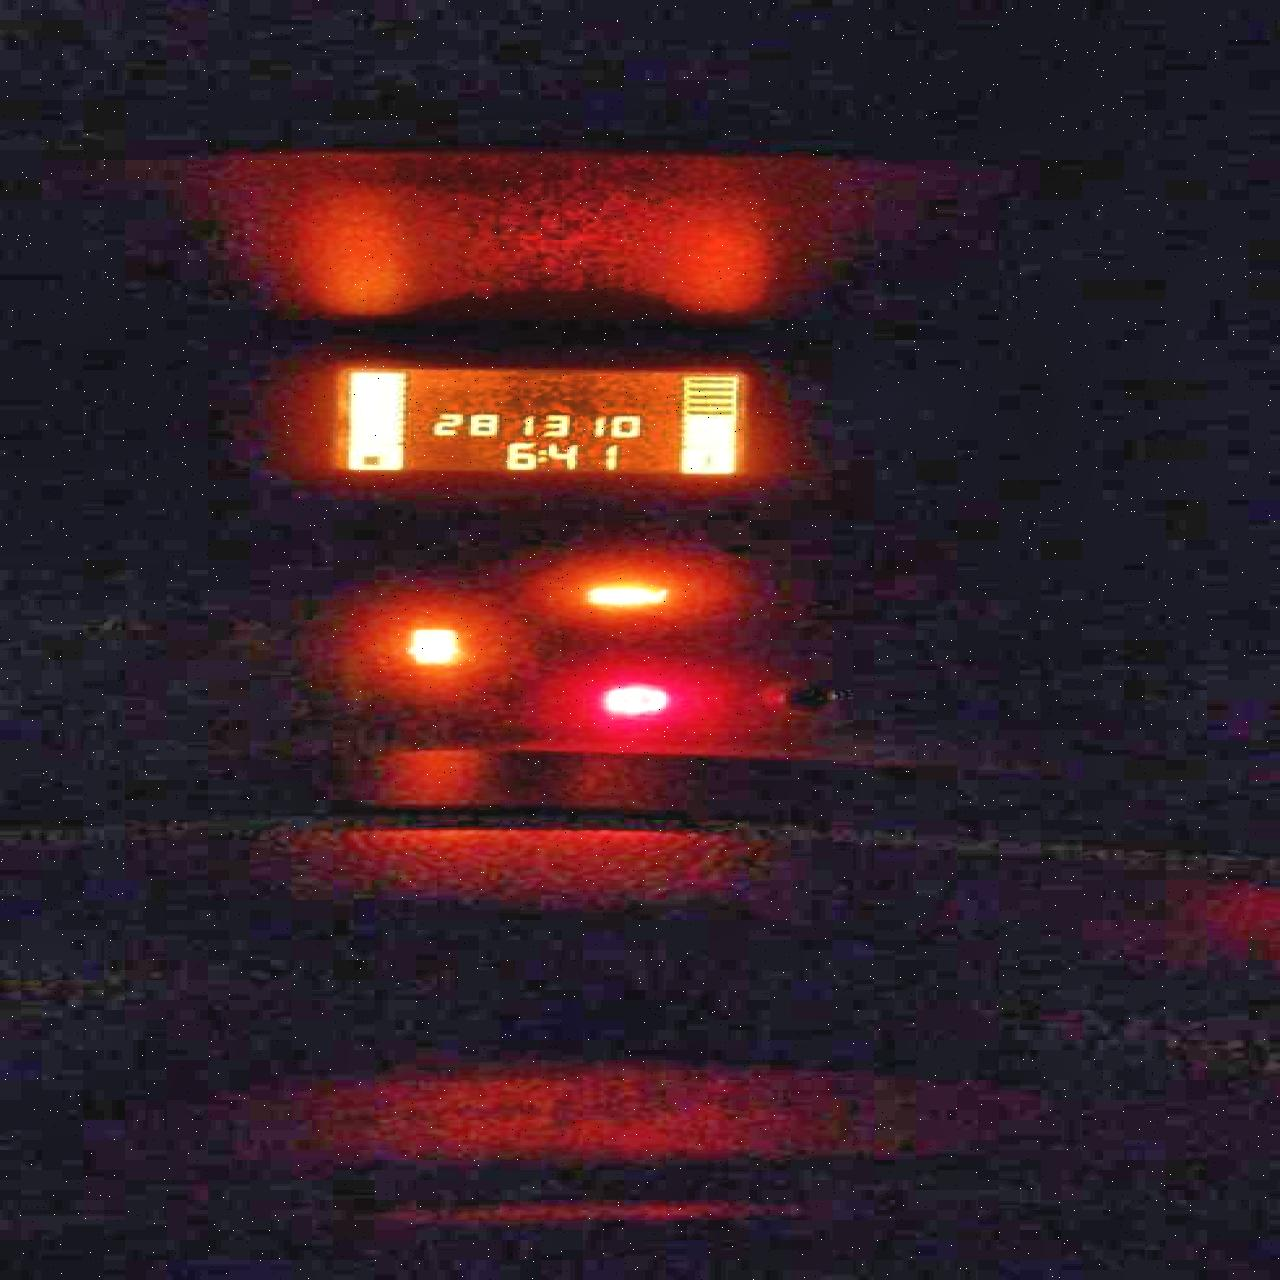0: (606, 413, 640, 438)
1: (595, 441, 619, 470), (512, 413, 536, 435), (586, 414, 606, 437)
2: (429, 411, 463, 436)
3: (542, 411, 570, 437)
4: (546, 441, 574, 471)
6: (499, 438, 533, 471)
8: (463, 410, 502, 436)
X: (536, 448, 546, 463)
odometer: (315, 362, 754, 477)
